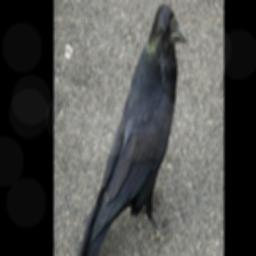Crow: (73, 3, 189, 256)
